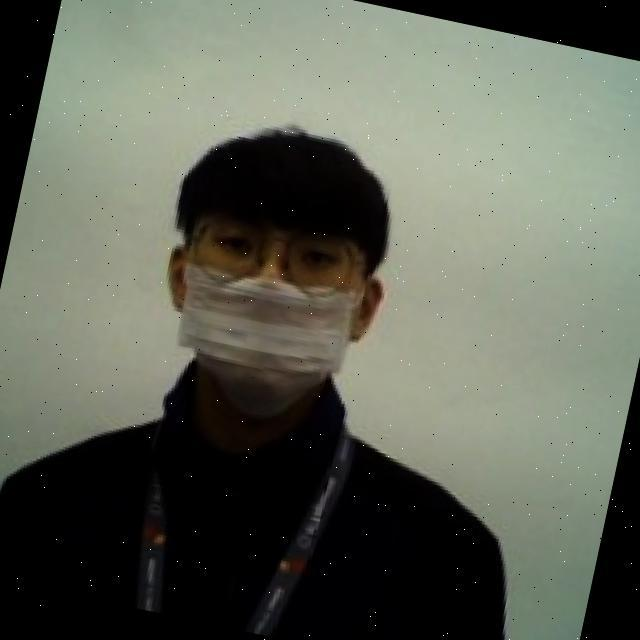mask: (149, 238, 374, 442)
no_gloves: (160, 85, 414, 270)
